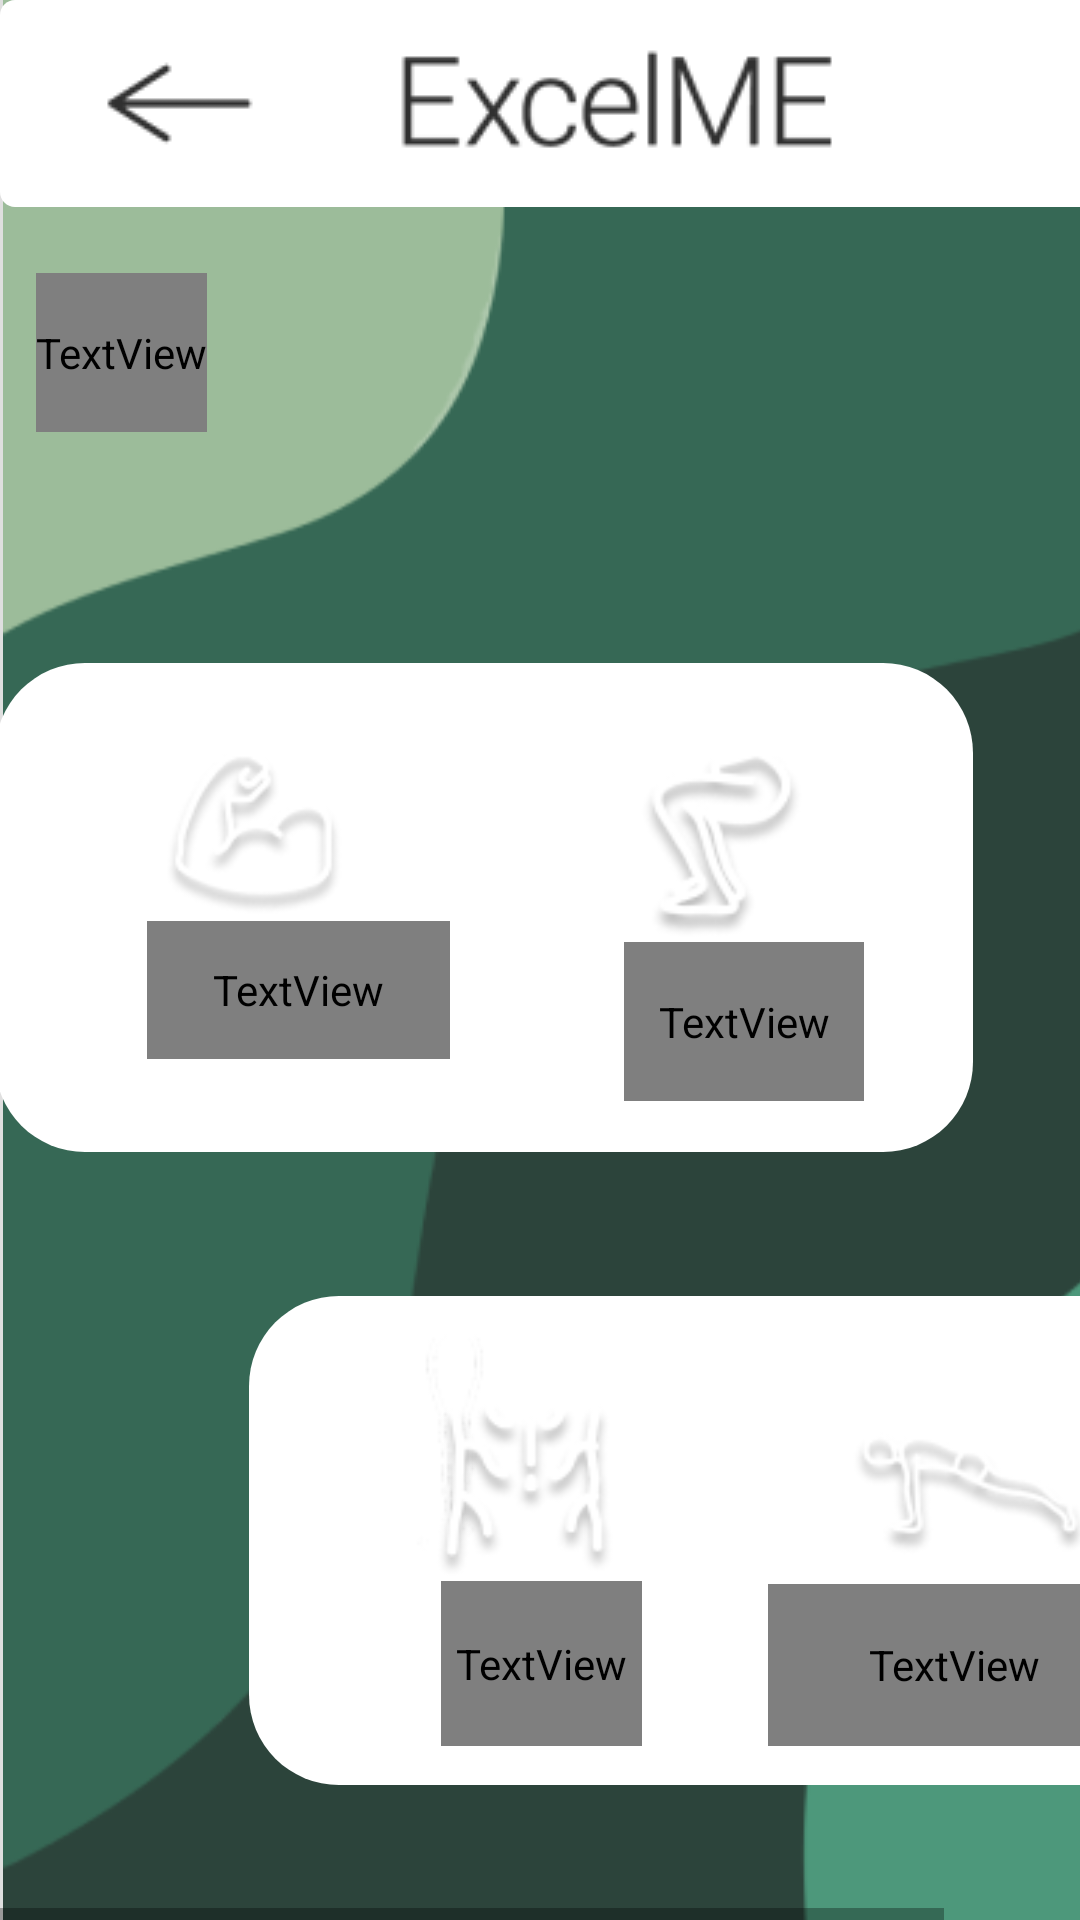

Screen size 1080×1920. Icon name, then its center in pixels as point (x, y):
arm: point (253, 833)
arrow: point (180, 103)
